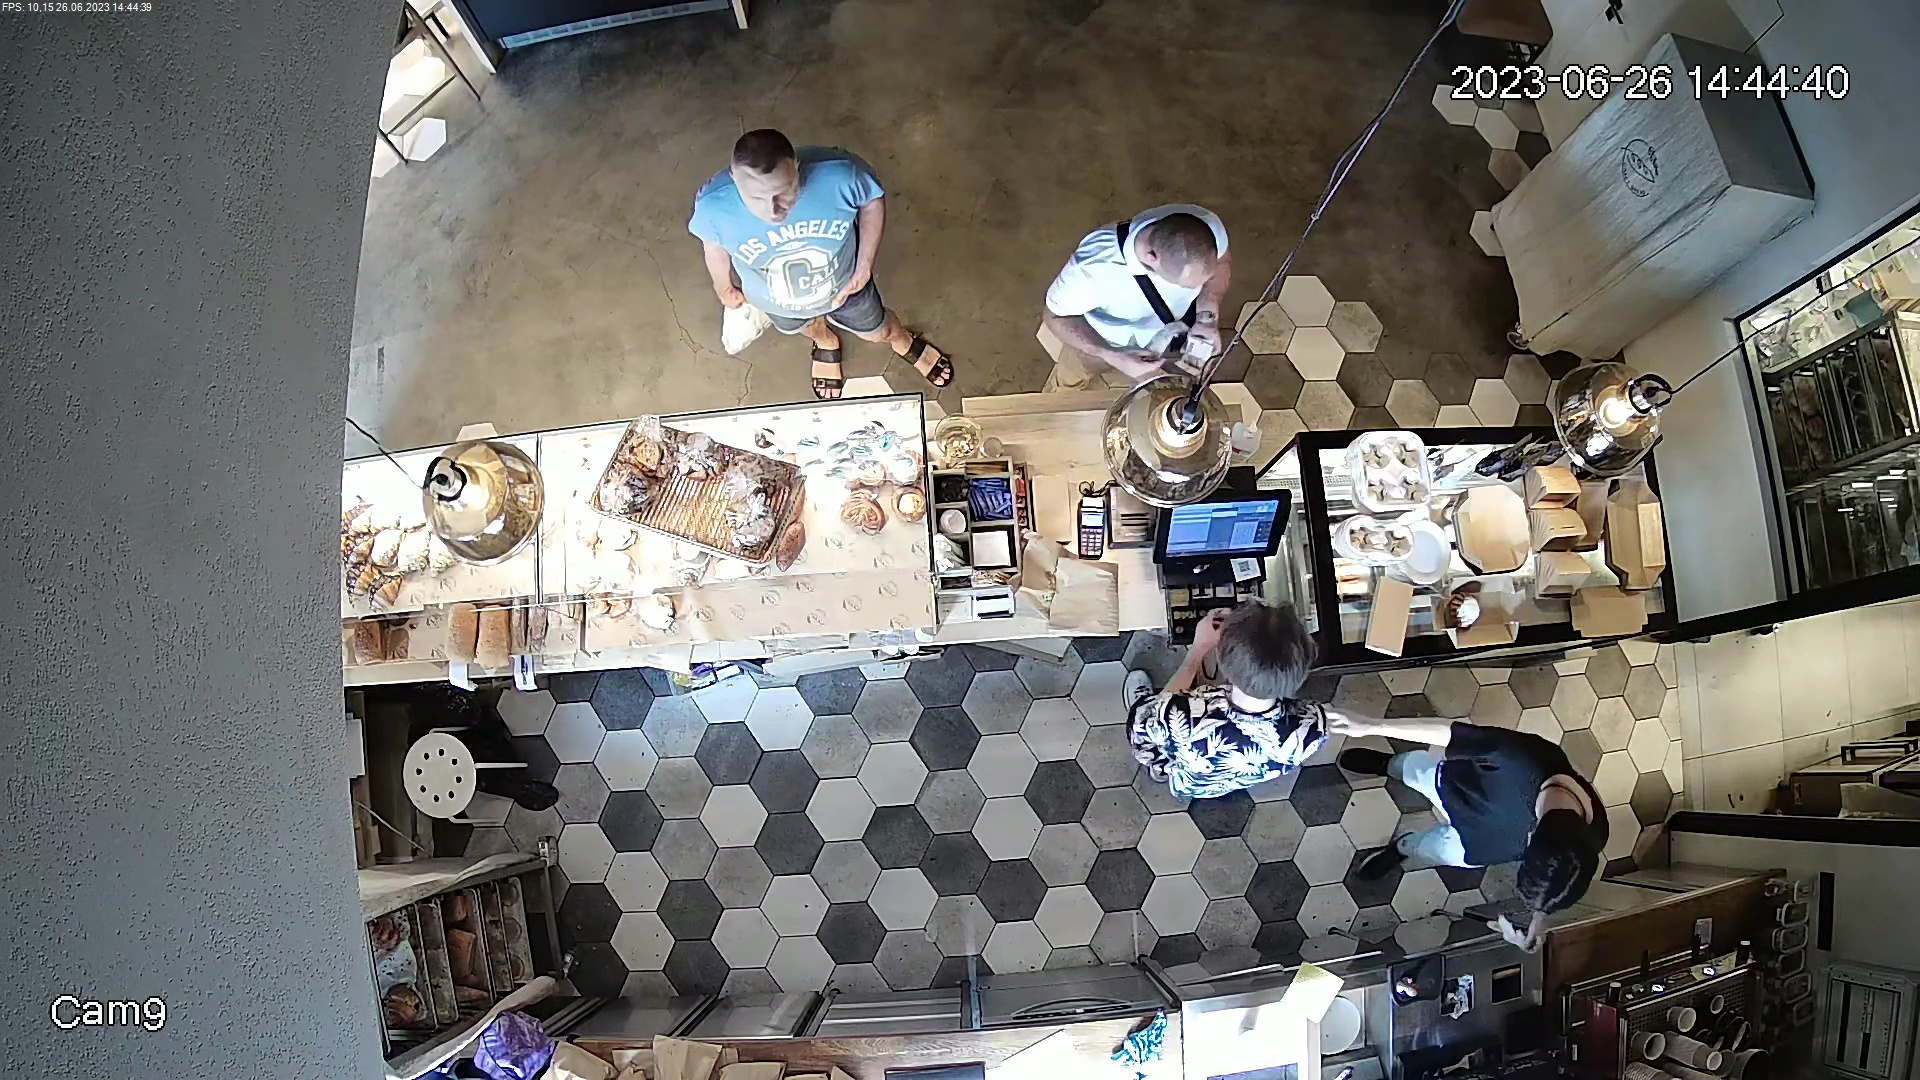barcounter: (341, 436, 1685, 666)
openedcash: (1154, 482, 1295, 661)
pack: (1048, 553, 1123, 643)
person: (696, 122, 961, 405)
